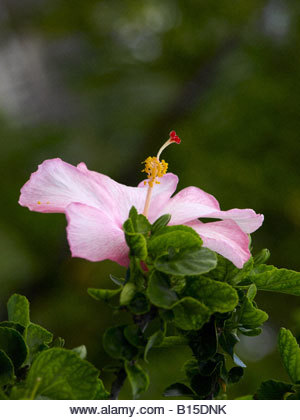Hibiscus: (20, 133, 273, 284)
